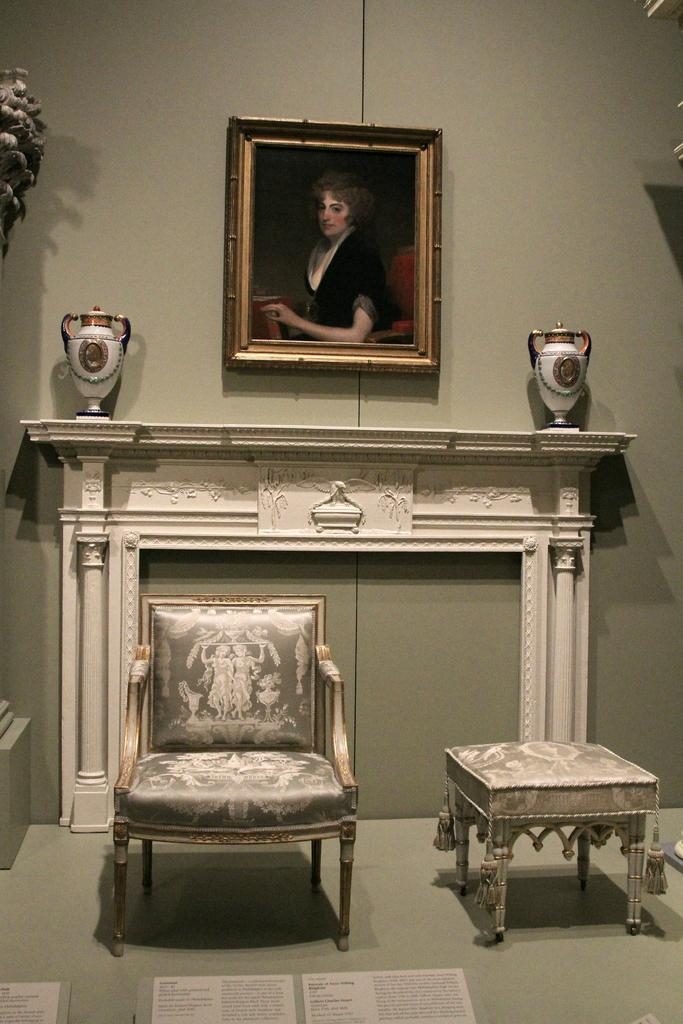Chair: (85, 569, 386, 950)
